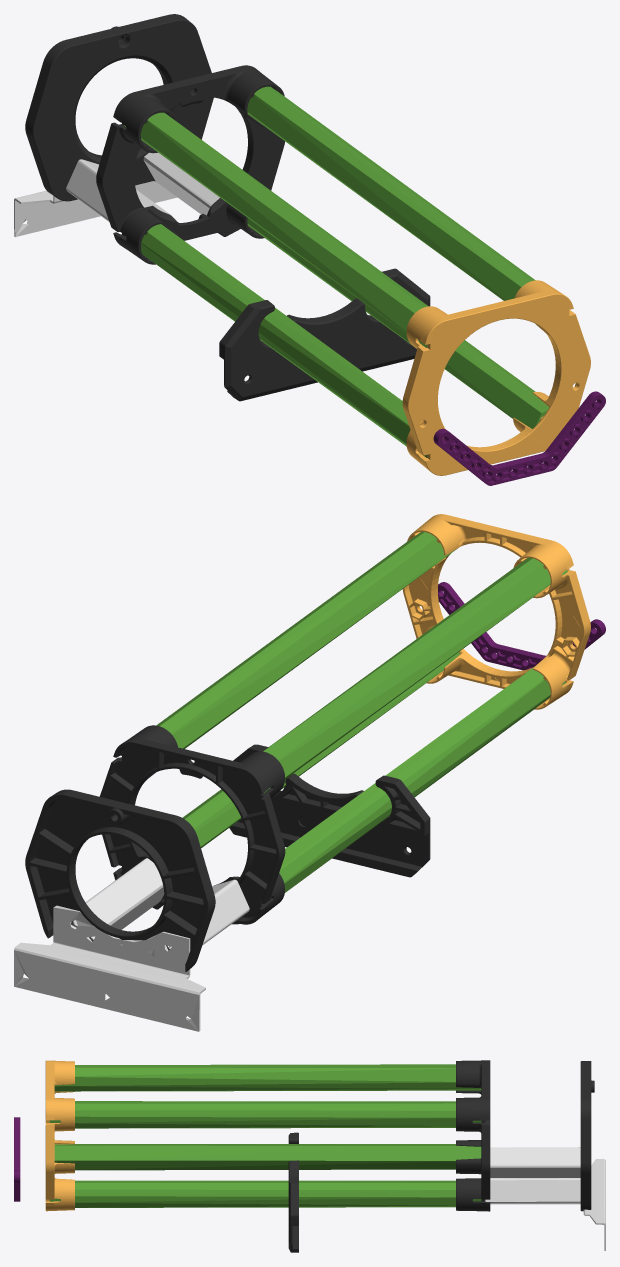
Rendered from flower-red-wall.obj.
3 renders of one model, top to bottom at view 1: azimuth 30°, elevation 25°; view 2: azimuth 150°, elevation 25°; view 3: azimuth 270°, elevation 25°, orthographic. The views are drawn at different scales.
Parts seen in each view (by area): view 1: flower-red-wall-5FA73D, flower-red-wall-303030, flower-red-wall-FFBA52, flower-red-wall-E6E6E6, flower-red-wall-641C65; view 2: flower-red-wall-5FA73D, flower-red-wall-303030, flower-red-wall-E6E6E6, flower-red-wall-FFBA52, flower-red-wall-641C65; view 3: flower-red-wall-5FA73D, flower-red-wall-303030, flower-red-wall-E6E6E6, flower-red-wall-FFBA52, flower-red-wall-641C65.
Boxes of the visible parts, left/top/right/bottom form: flower-red-wall-5FA73D: left=124, top=86, right=549, bottom=457; flower-red-wall-303030: left=25, top=14, right=430, bottom=401; flower-red-wall-FFBA52: left=402, top=280, right=590, bottom=475; flower-red-wall-E6E6E6: left=14, top=152, right=219, bottom=236; flower-red-wall-641C65: left=433, top=391, right=605, bottom=485; flower-red-wall-5FA73D: left=156, top=531, right=567, bottom=892; flower-red-wall-303030: left=25, top=725, right=430, bottom=971; flower-red-wall-E6E6E6: left=14, top=858, right=249, bottom=1031; flower-red-wall-FFBA52: left=402, top=514, right=590, bottom=709; flower-red-wall-641C65: left=438, top=582, right=605, bottom=670; flower-red-wall-5FA73D: left=49, top=1064, right=481, bottom=1207; flower-red-wall-303030: left=288, top=1060, right=594, bottom=1252; flower-red-wall-E6E6E6: left=485, top=1147, right=605, bottom=1250; flower-red-wall-FFBA52: left=45, top=1060, right=74, bottom=1211; flower-red-wall-641C65: left=14, top=1117, right=20, bottom=1201.
Bounding box in the file's own units: 6.67 × 6.16 × 23.3.
